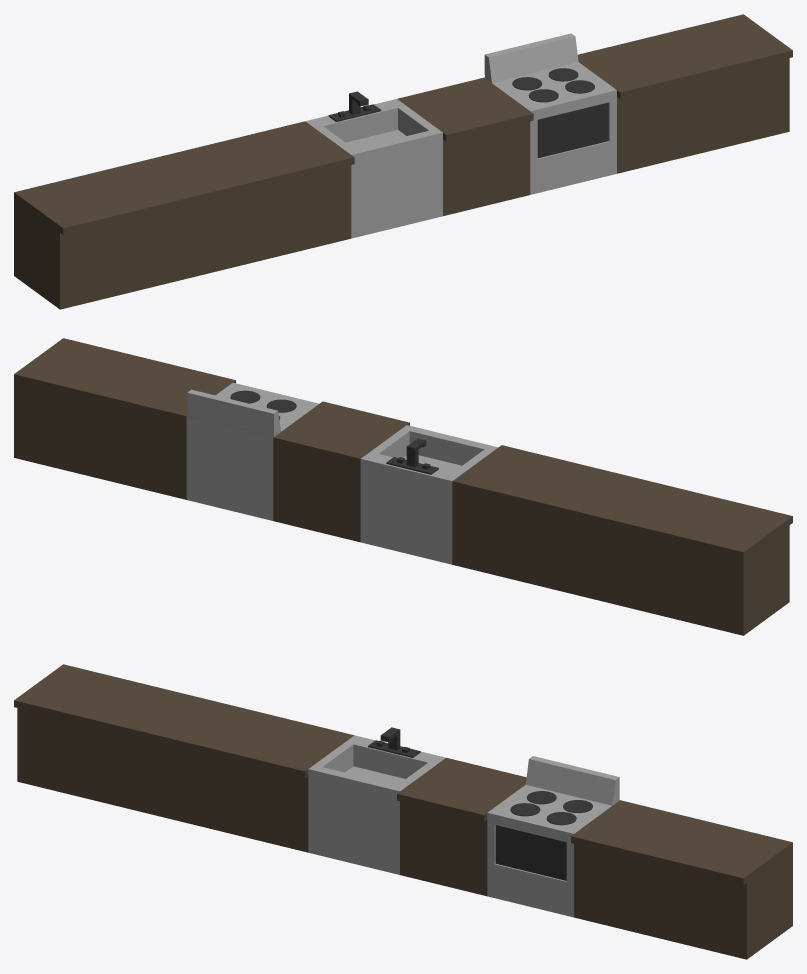
Rendered from Kitchen_Counter1.fbx.
The picture shows the model from 3 angles, top to bottom: view 1: azimuth 30°, elevation 25°; view 2: azimuth 150°, elevation 25°; view 3: azimuth 330°, elevation 25°; orthographic projection.
Parts seen in each view (by area): view 1: polySurface55; view 2: polySurface55; view 3: polySurface55.
Boxes of the visible parts, left/top/right/bottom form: polySurface55: left=14, top=14, right=792, bottom=309; polySurface55: left=14, top=338, right=792, bottom=635; polySurface55: left=14, top=664, right=792, bottom=959.
Size of the model in its own units: 10.45 by 1.46 by 1.22.
